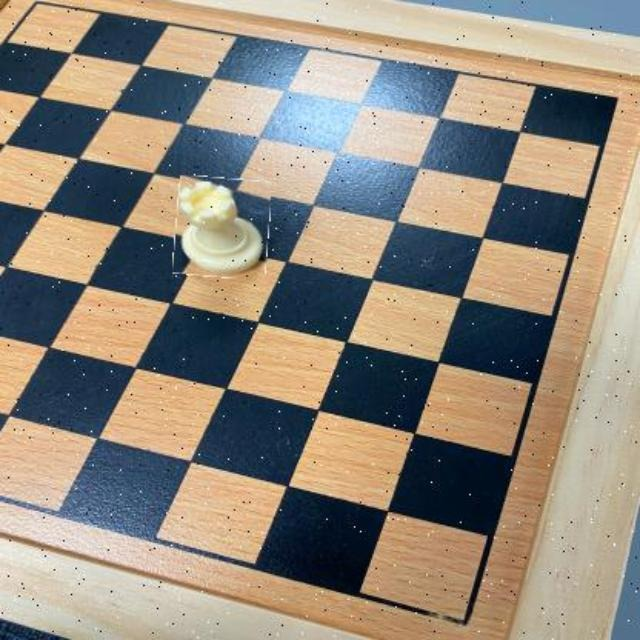white-rook: (175, 178, 270, 278)
